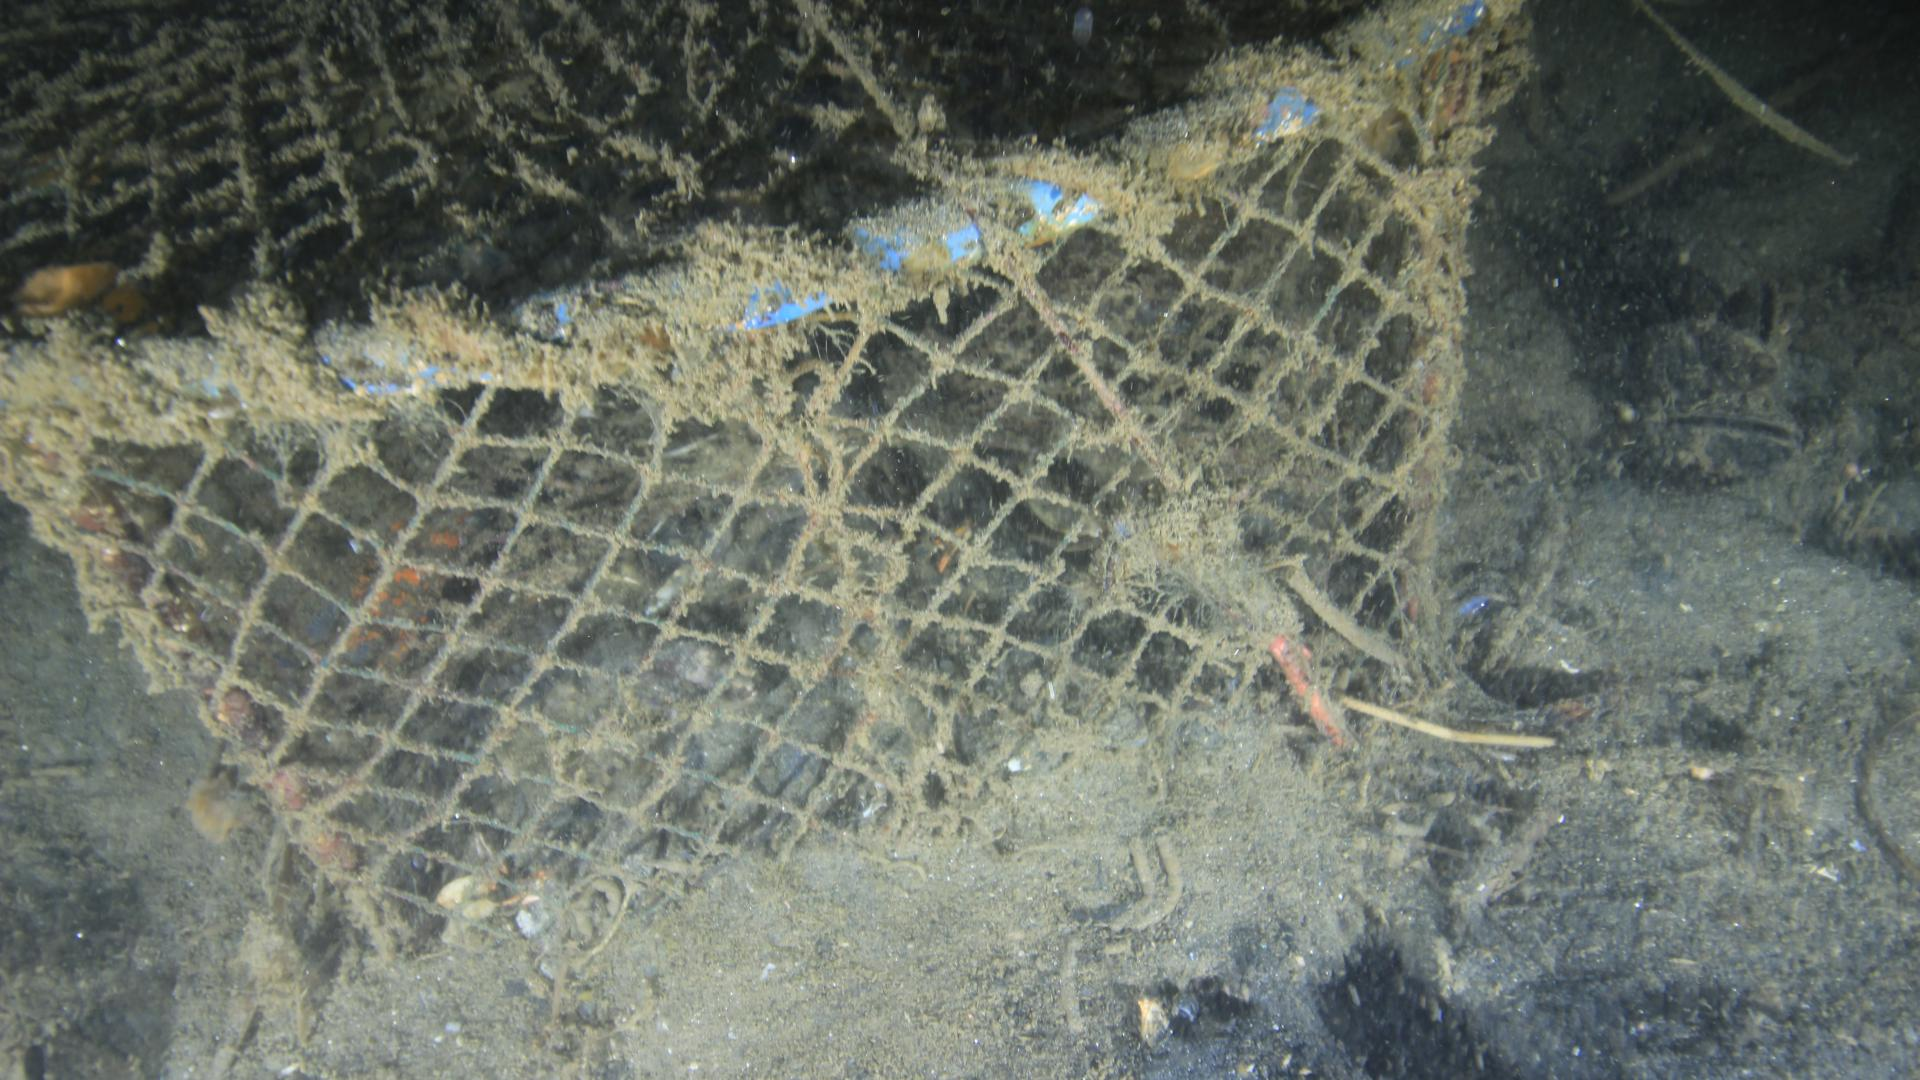rectangular fish trap: (0, 0, 1526, 952)
